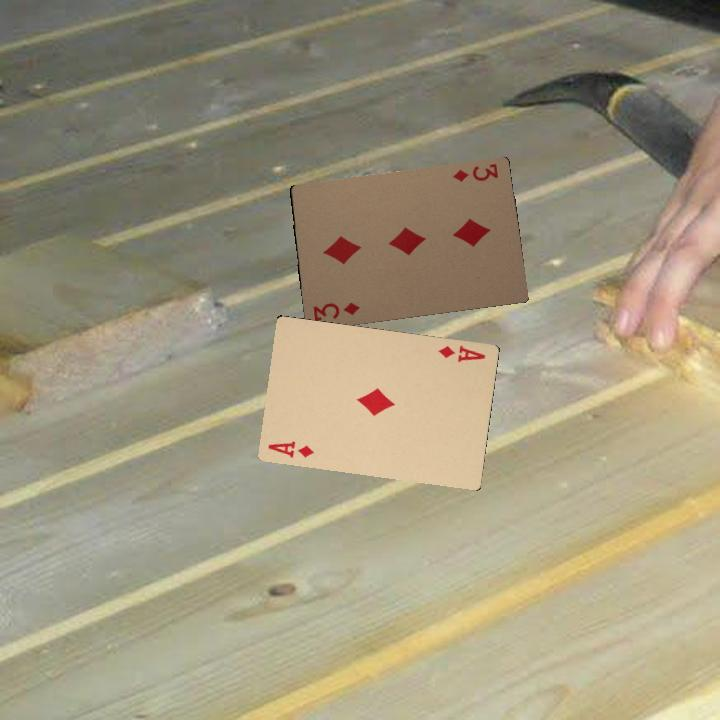3d: (309, 298, 364, 324), (449, 160, 501, 186)
Ad: (264, 437, 317, 460), (436, 342, 488, 365)
